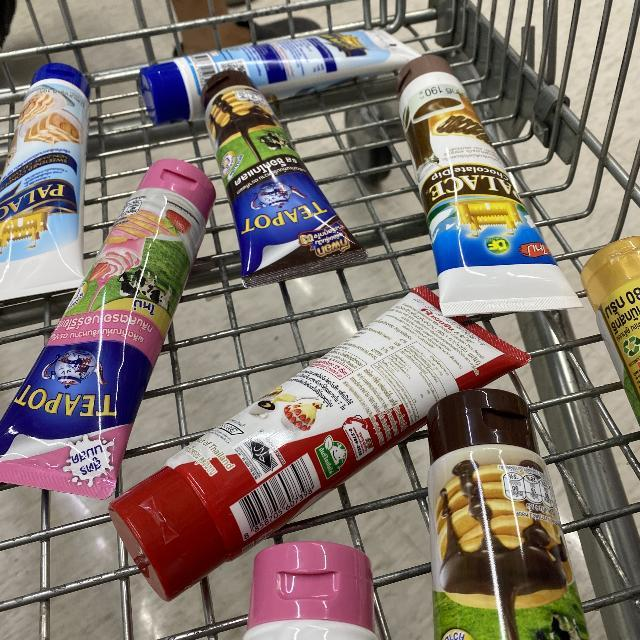Squeeze Tube: (3, 19, 624, 640)
